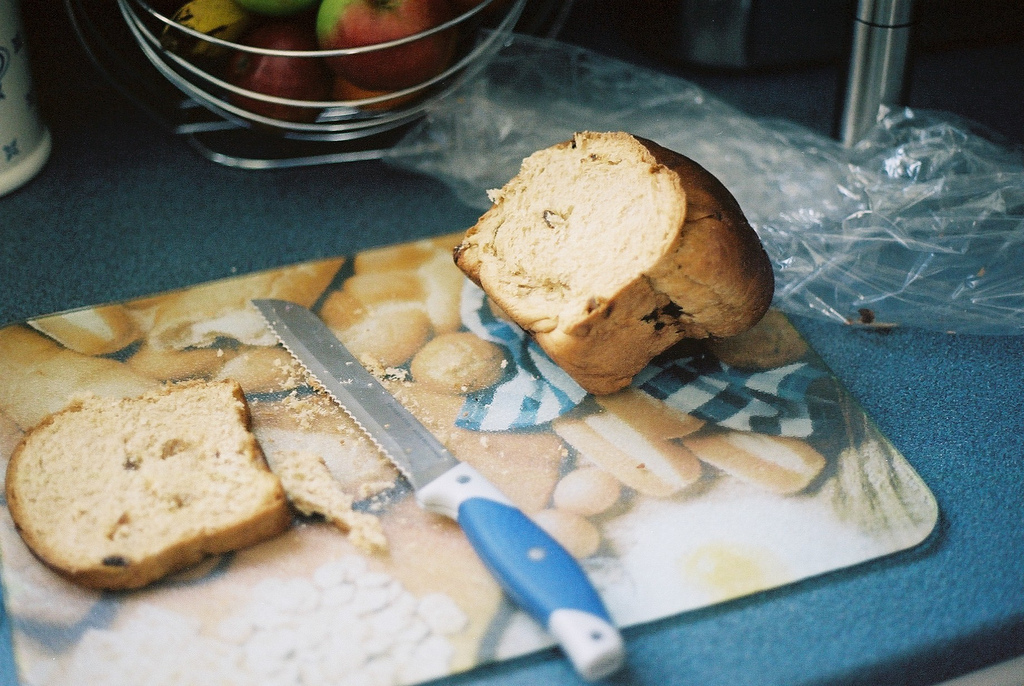slice of bread: (444, 111, 776, 387), (12, 379, 291, 585)
